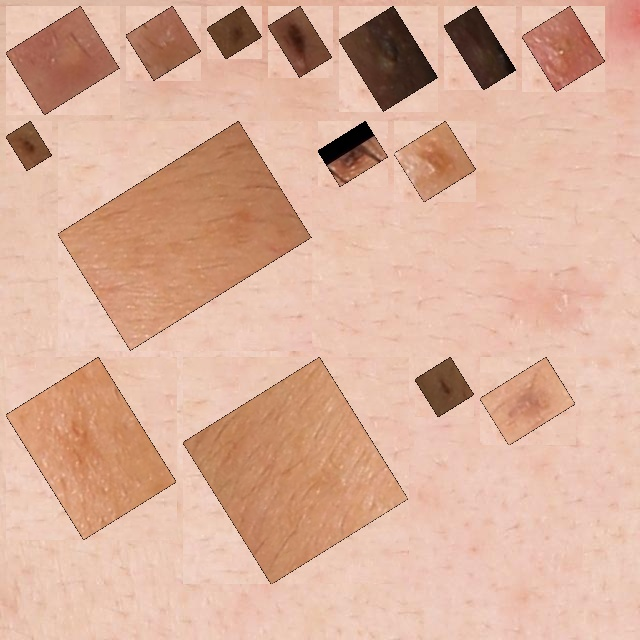melasma: (69, 132, 300, 339), (194, 368, 397, 573), (17, 368, 165, 528), (491, 368, 564, 434)
nevus: (405, 132, 465, 191), (329, 132, 377, 175), (279, 17, 321, 66), (426, 368, 463, 406), (218, 17, 251, 48), (17, 132, 41, 159)
pustule: (17, 17, 108, 104), (350, 17, 427, 100), (533, 17, 594, 80), (455, 17, 505, 79), (137, 17, 190, 69)
